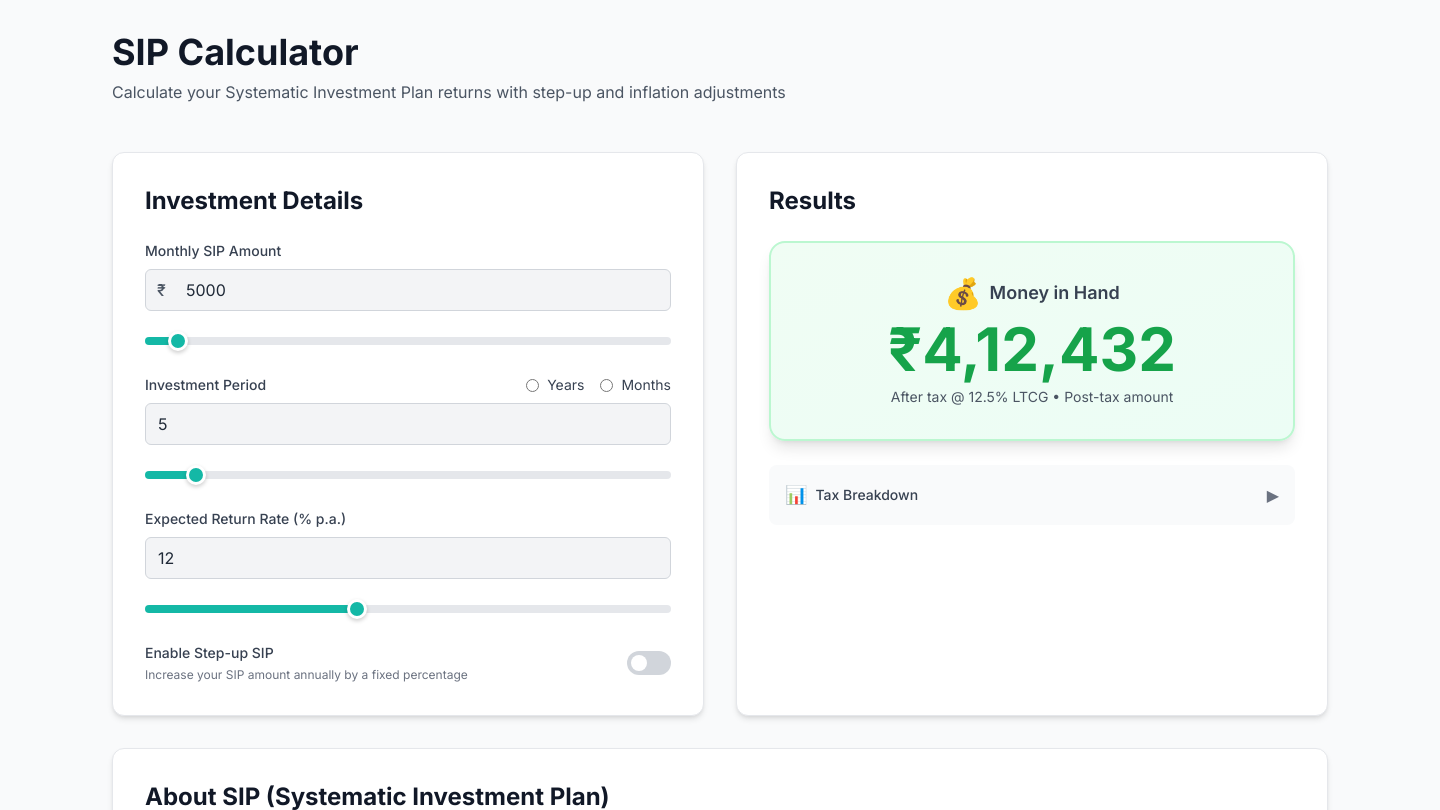
SIP Calculator integration › SIP-08: invalid min amount shows inline validation error in DOM
Step 1. Type "499" into the number field with placeholder "5000" below "Monthly SIP Amount" → (408, 290), box [145,269,671,311]
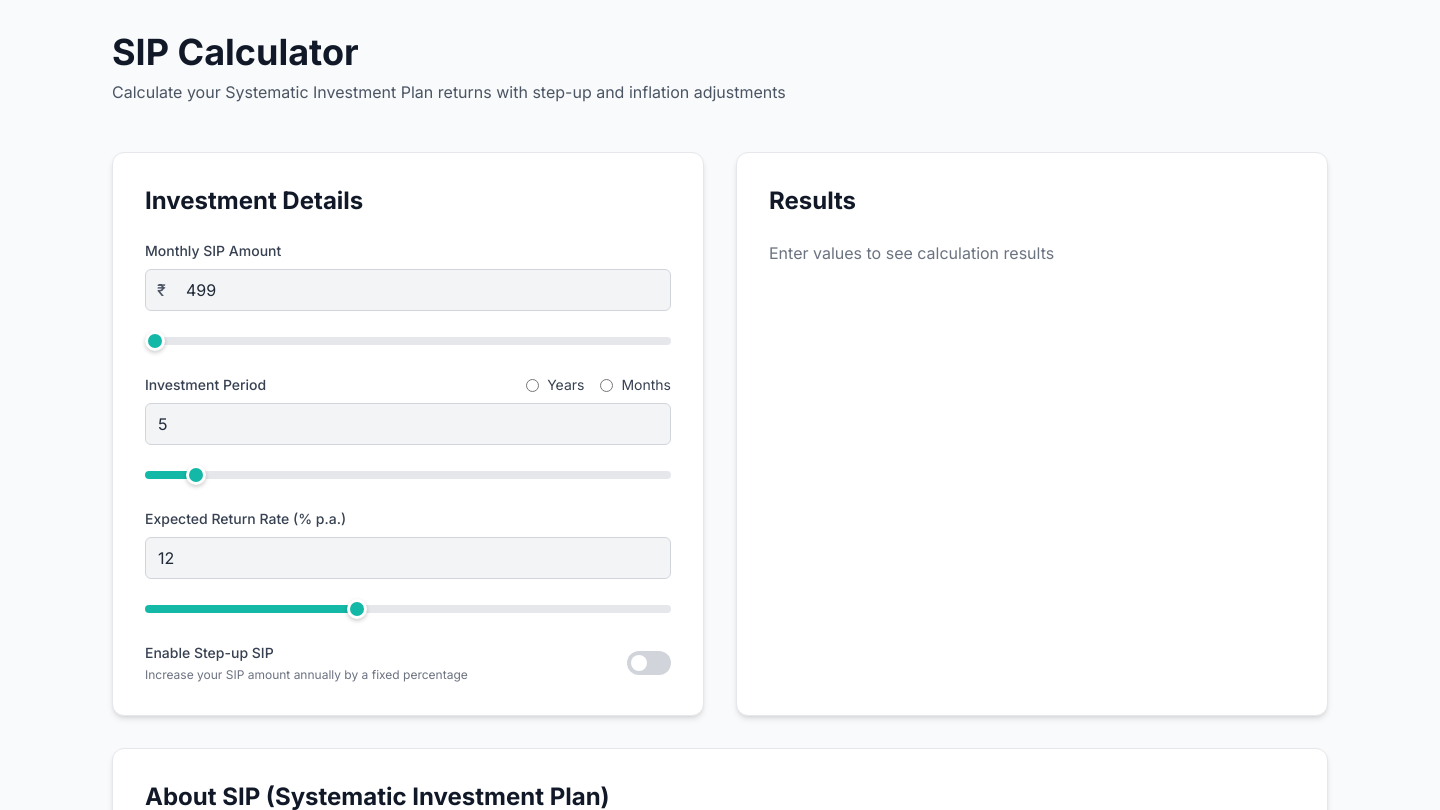
Step 2. Leave the number field with placeholder "5000" below "Monthly SIP Amount", box [145,269,671,311]
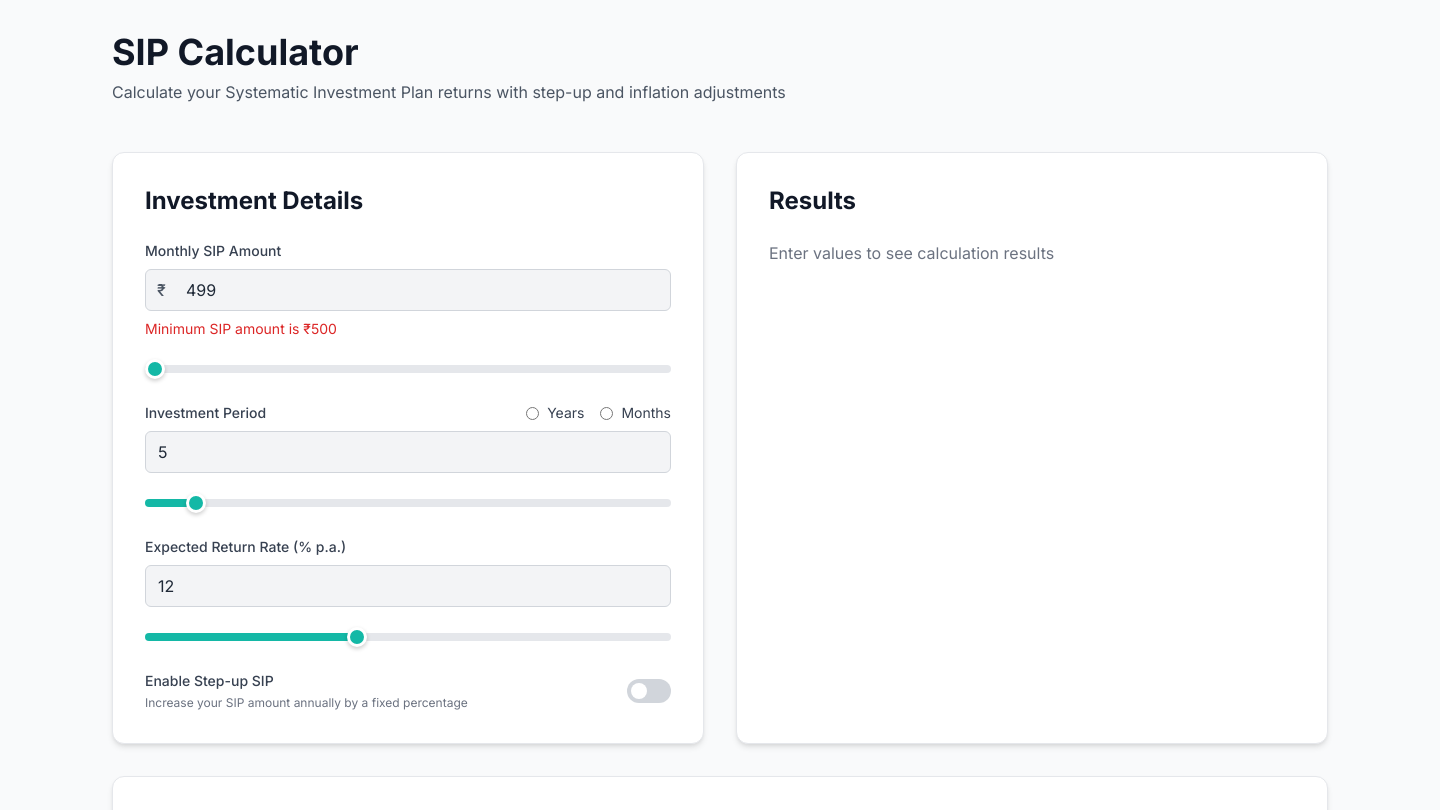
Expected: the text "Minimum SIP amount is ₹500" is shown, [145,320,337,337]
